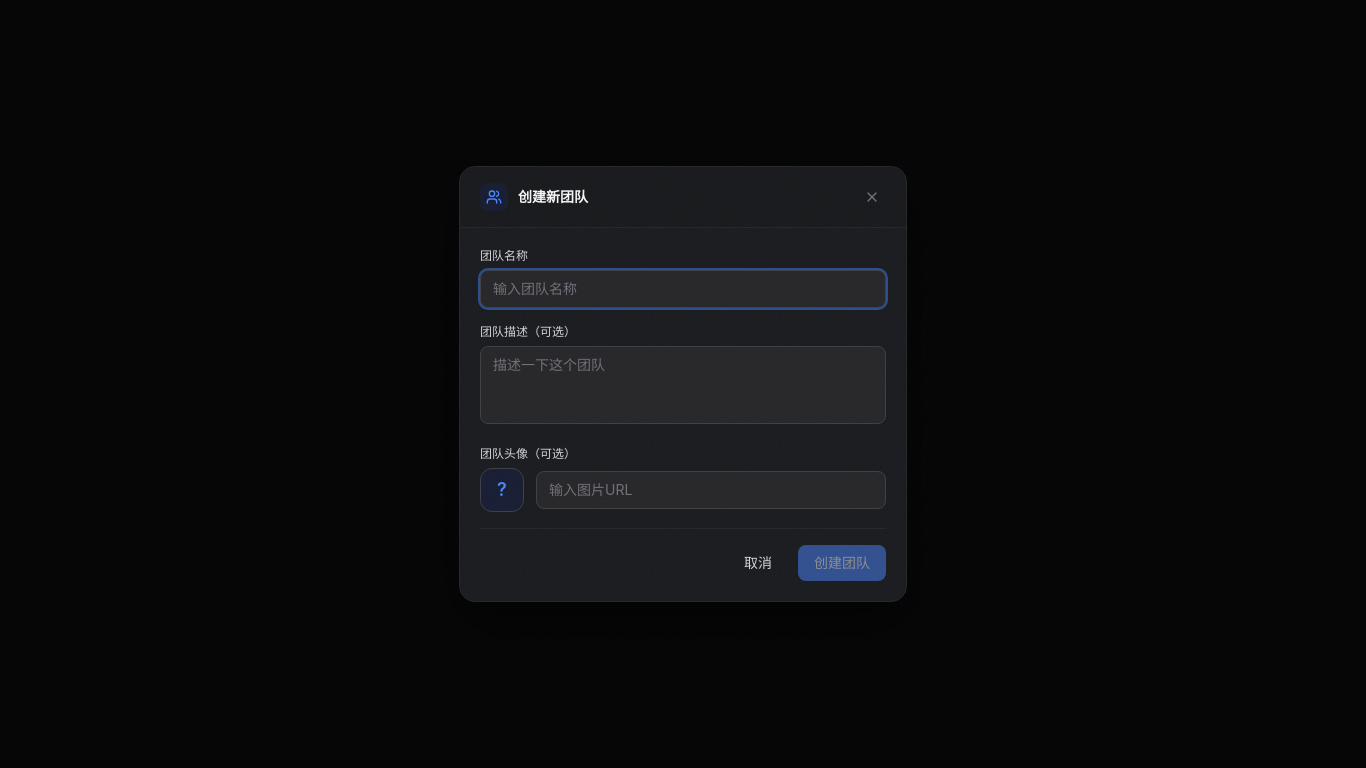
Test: CreateTeamModal › displays error message when createTeam fails
The width and height of the screenshot is (1366, 768).
Type "My Team" into the field with placeholder "输入团队名称" at (683, 289), box [480,270,886,308]
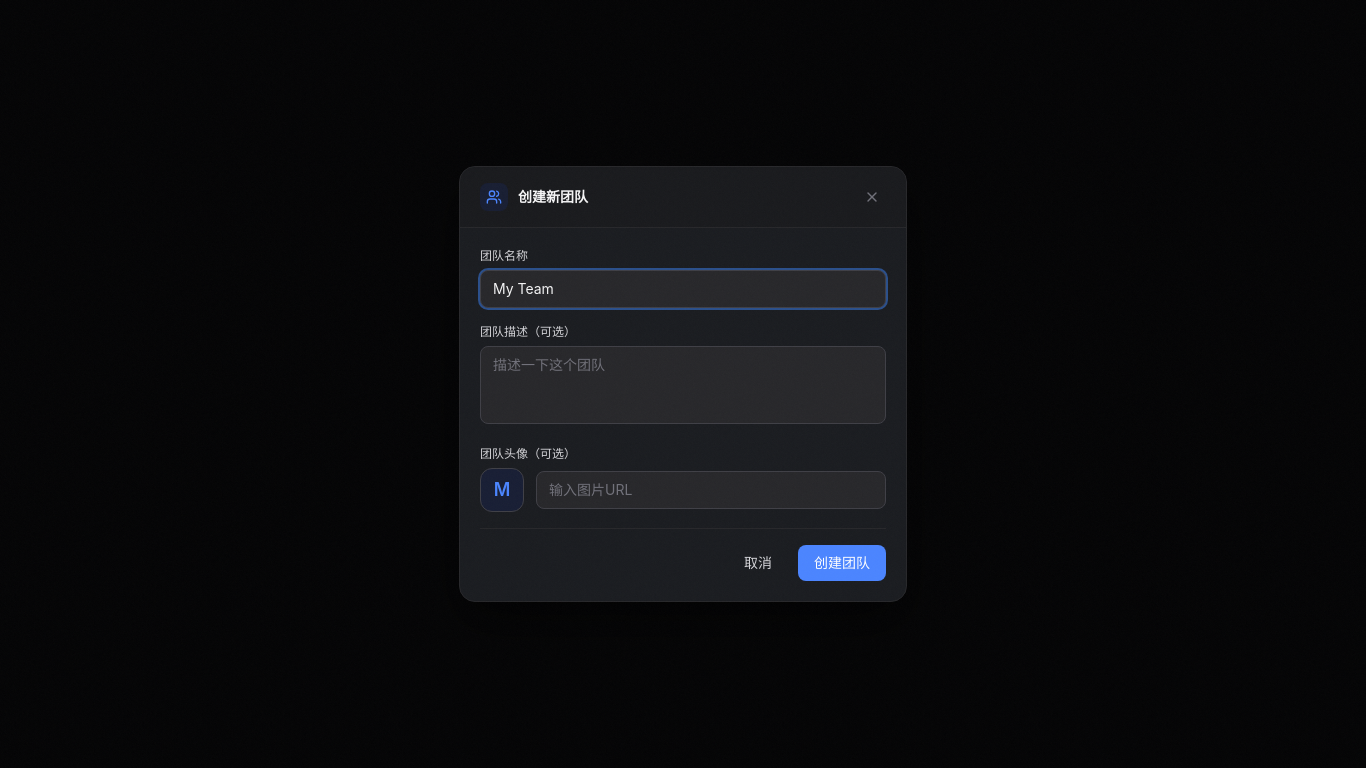
Click the button "创建团队" at (842, 563), box [798,545,886,581]
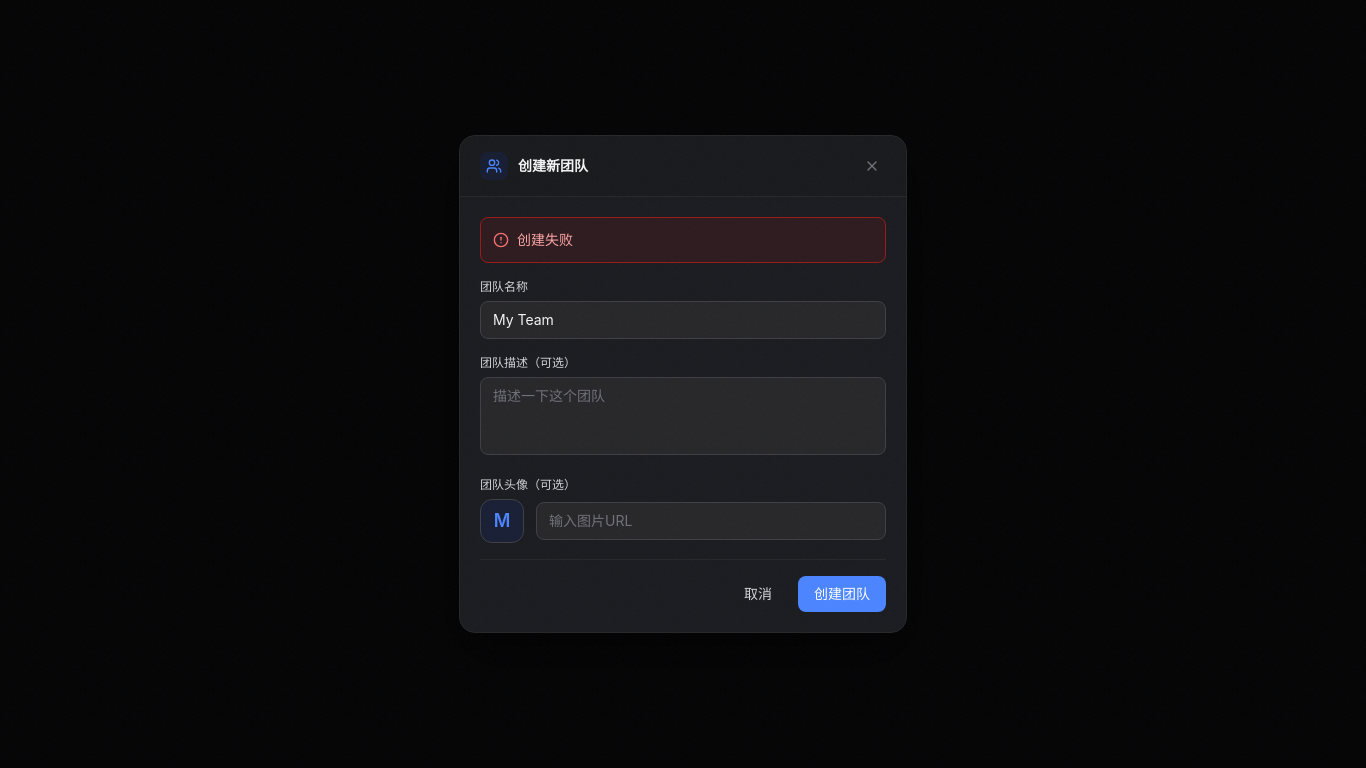
Expected: the text "创建失败" is shown, [517,230,573,250]
